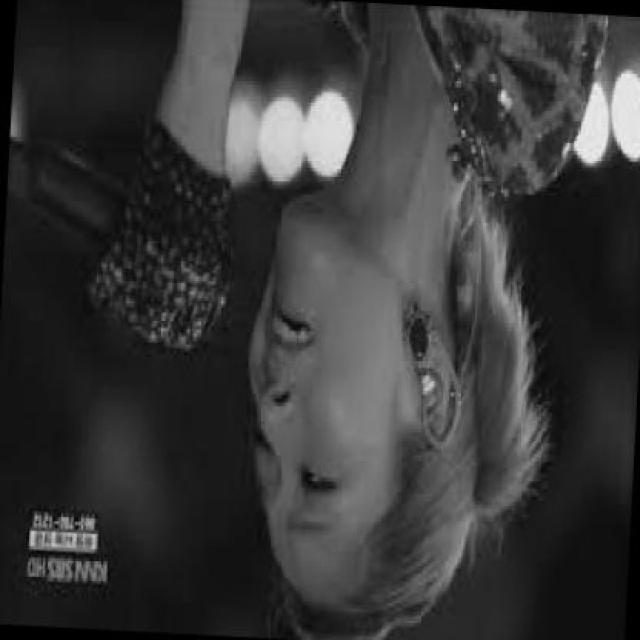earphone: (404, 302, 456, 383)
